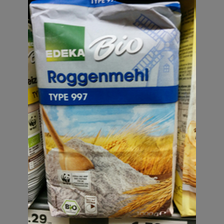flour: (30, 3, 181, 217)
